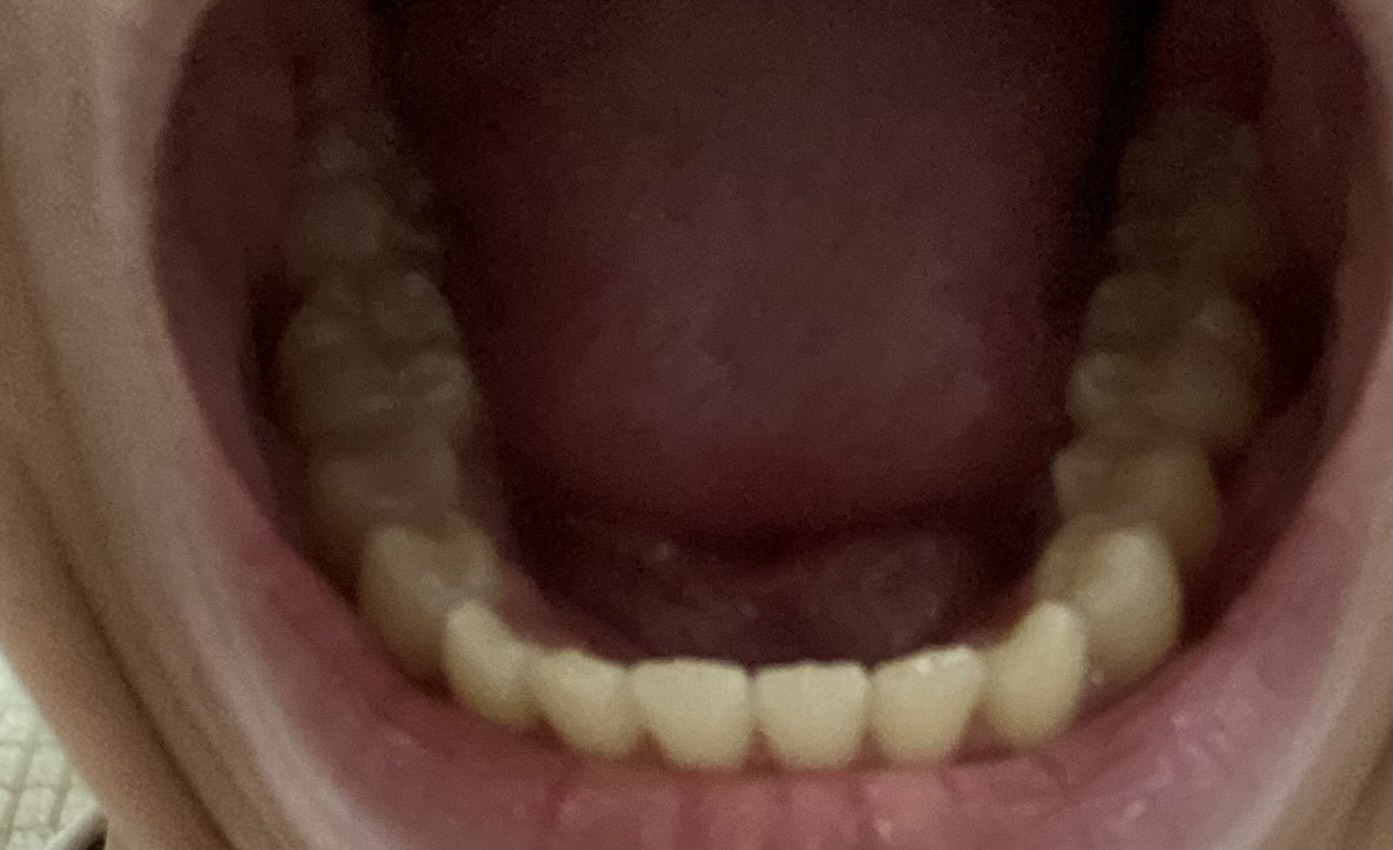teeth: (1076, 271, 1270, 441), (271, 270, 466, 427), (1117, 113, 1291, 274), (1034, 514, 1179, 685), (291, 120, 444, 277), (1066, 408, 1217, 557), (354, 528, 492, 683), (323, 432, 451, 551), (993, 604, 1090, 742), (877, 646, 984, 759), (450, 610, 548, 731), (543, 658, 641, 765), (634, 671, 745, 762), (759, 670, 862, 766)
